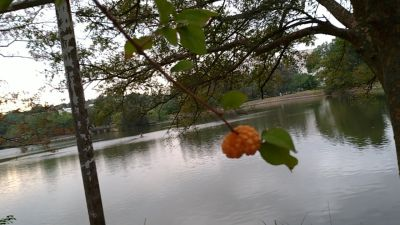eggs: (219, 123, 264, 160)
